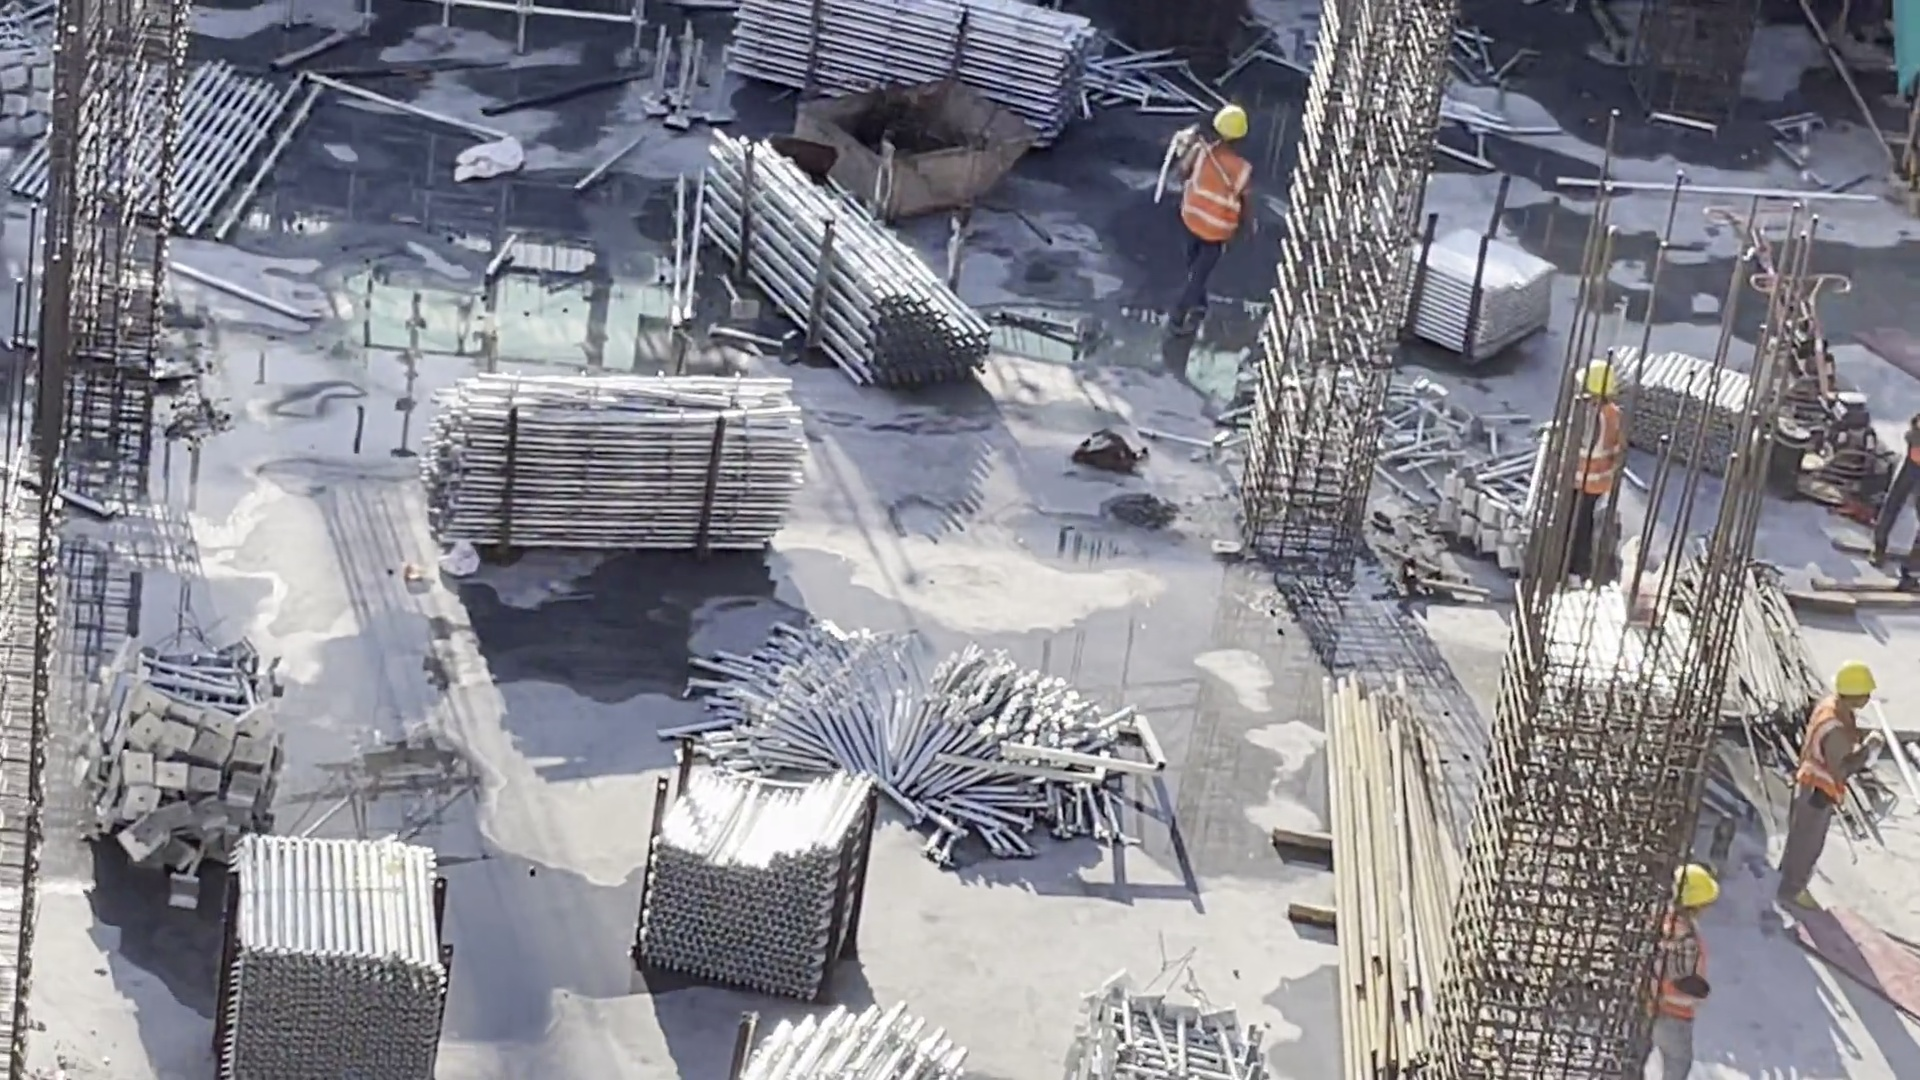helmet: (1674, 858, 1721, 916), (1838, 660, 1882, 713), (1578, 364, 1626, 398), (1214, 109, 1258, 142)
hopper: (800, 68, 1036, 231)
person: (1773, 652, 1877, 949), (1645, 849, 1732, 1080), (1175, 104, 1249, 335), (1556, 353, 1628, 576)
scaffold: (714, 600, 1157, 893), (48, 626, 314, 899), (723, 140, 999, 398), (440, 371, 792, 571), (221, 819, 474, 1080), (642, 760, 880, 1003), (728, 1, 1096, 118), (1629, 332, 1800, 473), (1061, 970, 1271, 1079), (710, 975, 918, 1080), (1390, 226, 1553, 338)
vest: (1644, 910, 1717, 1029), (1174, 137, 1237, 240), (1800, 708, 1857, 813), (1579, 402, 1636, 501)
